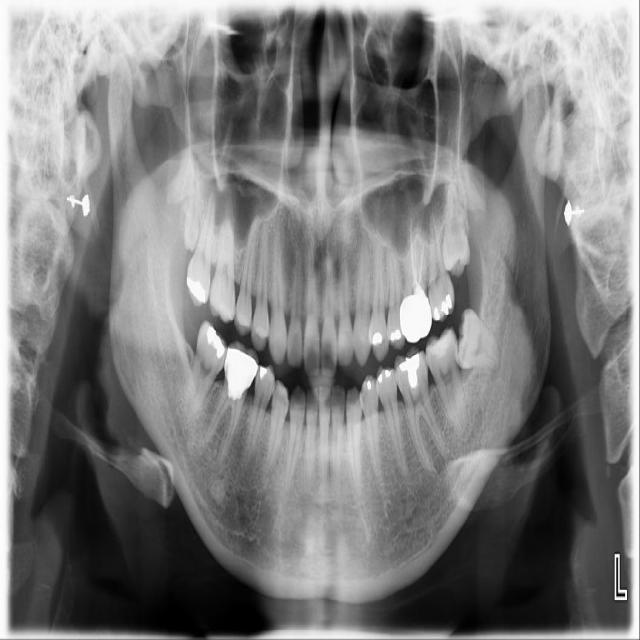3M ESPE Implant: (182, 161, 205, 253)
52: (382, 342, 440, 399), (185, 317, 239, 378), (416, 324, 470, 381), (220, 338, 261, 398), (397, 290, 434, 345), (423, 270, 460, 325), (364, 312, 393, 364), (209, 273, 236, 324), (186, 252, 211, 307), (375, 366, 397, 408), (386, 305, 406, 351), (255, 364, 275, 404), (359, 375, 378, 415)
73: (403, 201, 431, 298), (601, 556, 607, 574)
BioHorizons Implant: (424, 195, 456, 325)
BioLife Implant: (428, 166, 474, 281)
Biomet 3i Implant: (454, 307, 502, 370)
Blue Sky Bio Implant: (422, 325, 469, 440)
Caries: (183, 186, 217, 308)
Implant: (176, 318, 235, 431)
